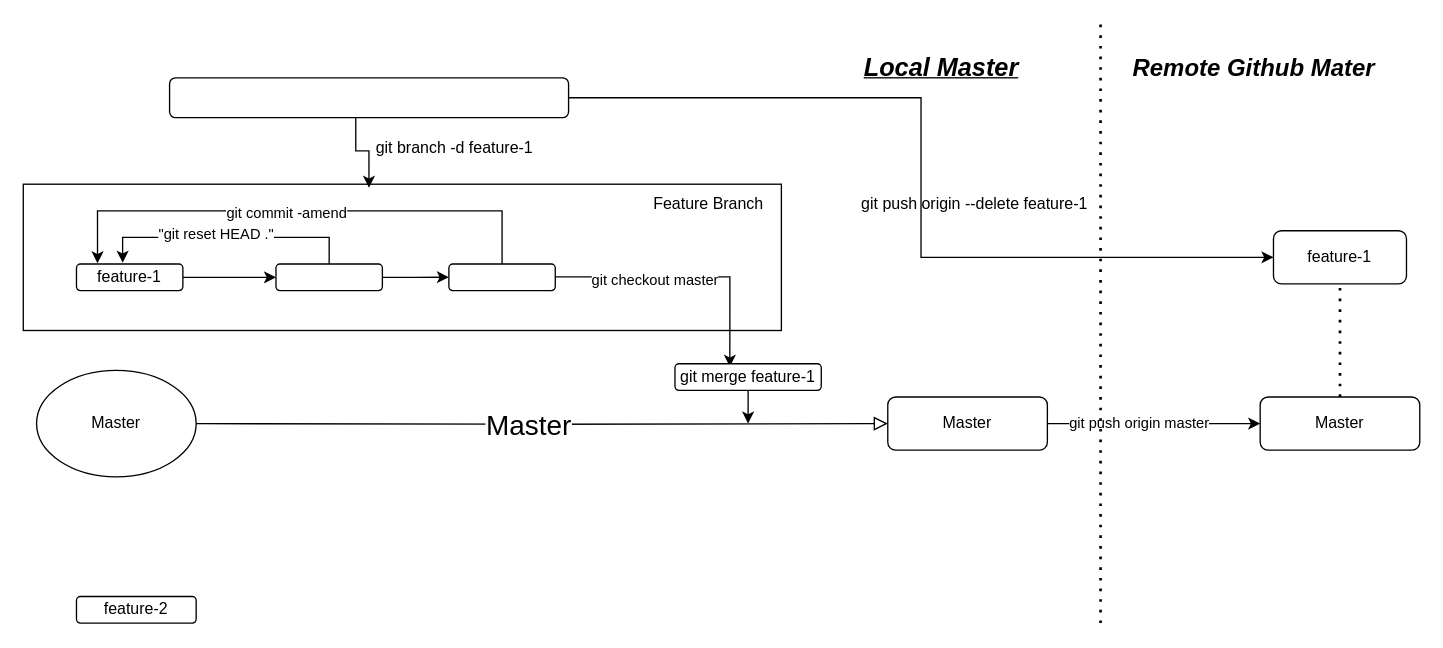
The diagram is 1443 pixels wide and 648 high, and some of its shapes have lost their labels. The shapes that lost their labels are listed below. From the top down, each one's centre as x and y in pixels, then its label:
At point (368, 97): "(After Finishing Feature1 develop, delete the branch)".
At point (328, 277): "git add".
At point (501, 277): "git commit".
